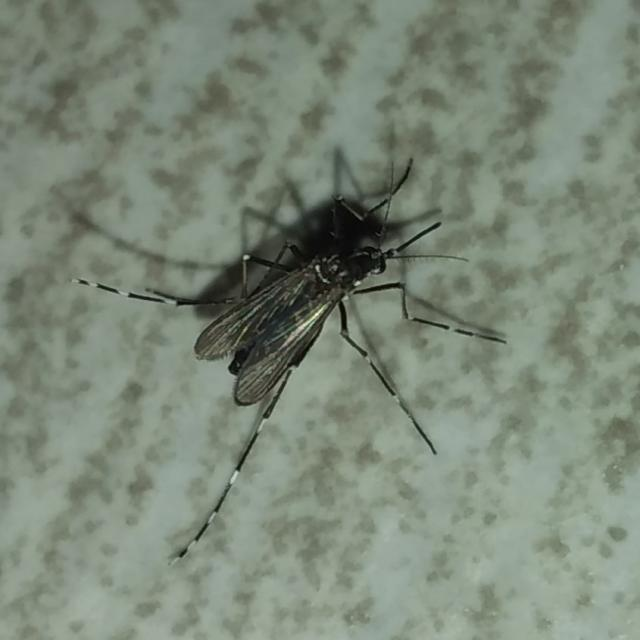albopictus: (68, 134, 496, 558)
